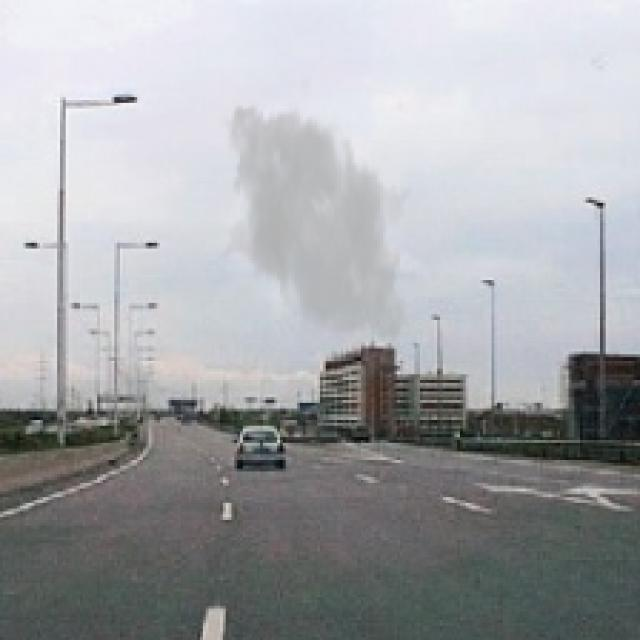smoke: (209, 95, 420, 352)
